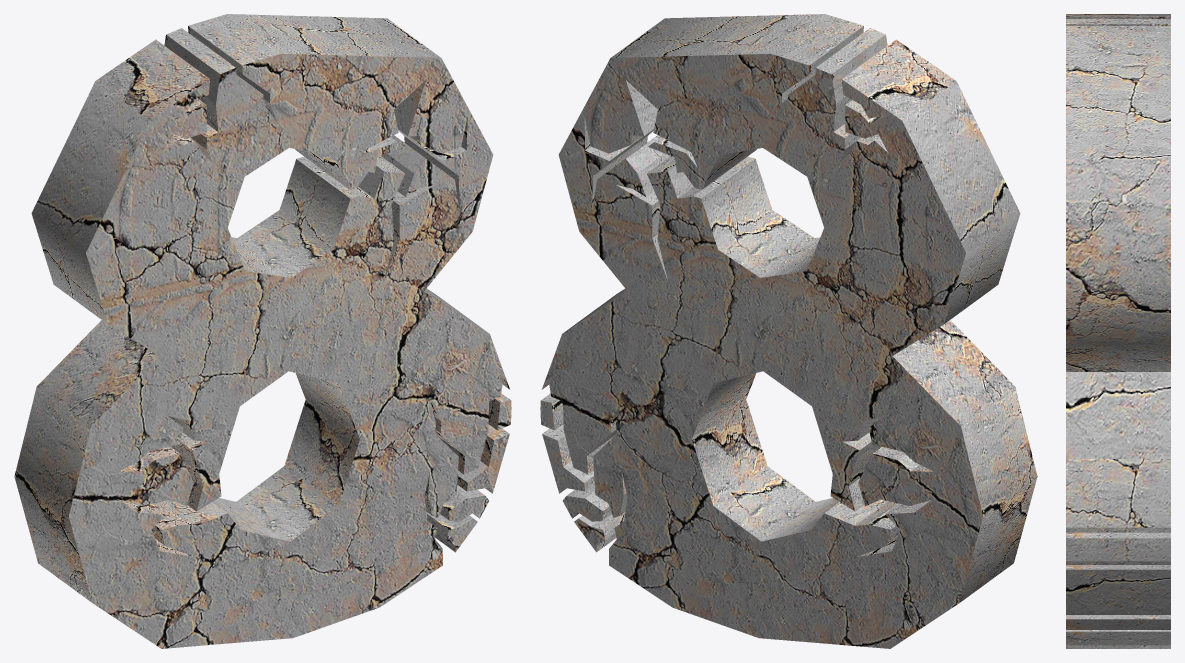
3 renders of one model, left to right at view 1: azimuth 30°, elevation 25°; view 2: azimuth 150°, elevation 25°; view 3: azimuth 270°, elevation 25°, orthographic. The views are drawn at different scales.
Visible parts, largest first — view 1: 8; view 2: 8; view 3: 8.
Part boxes in pixels (bbox=[...]): 8: bbox=[14, 14, 511, 648]; 8: bbox=[540, 14, 1037, 648]; 8: bbox=[1066, 14, 1170, 648].
Bounding box in the file's own units: 70.55 × 89.42 × 15.
1 material, 1 textured.
